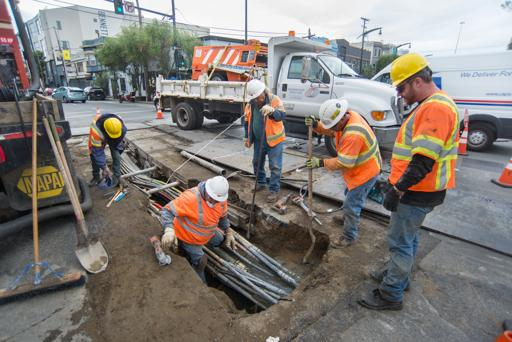safe person: (364, 47, 465, 309), (313, 99, 379, 244), (242, 75, 291, 199), (88, 113, 133, 187)
